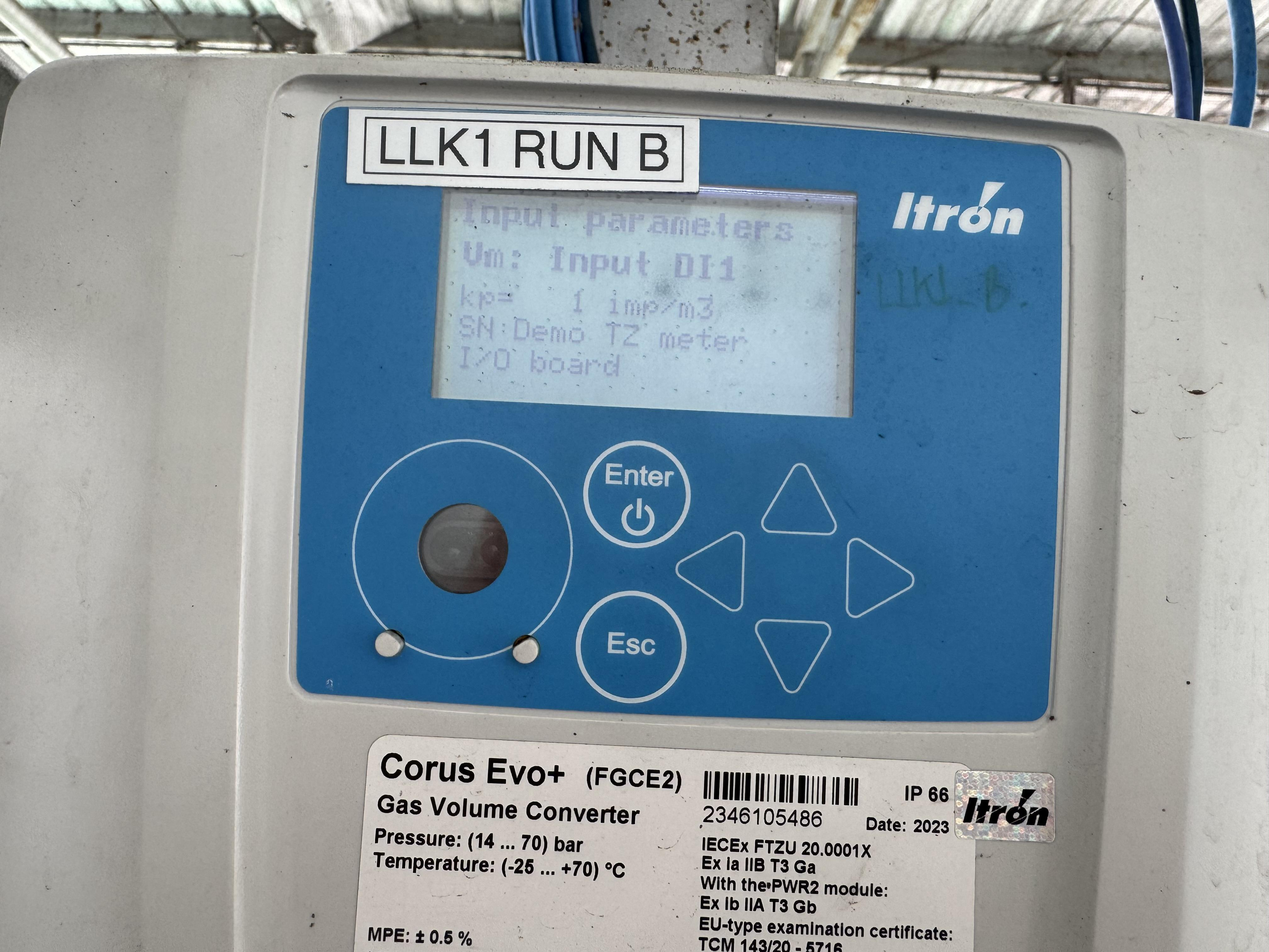digital_screen: (430, 173, 863, 417)
